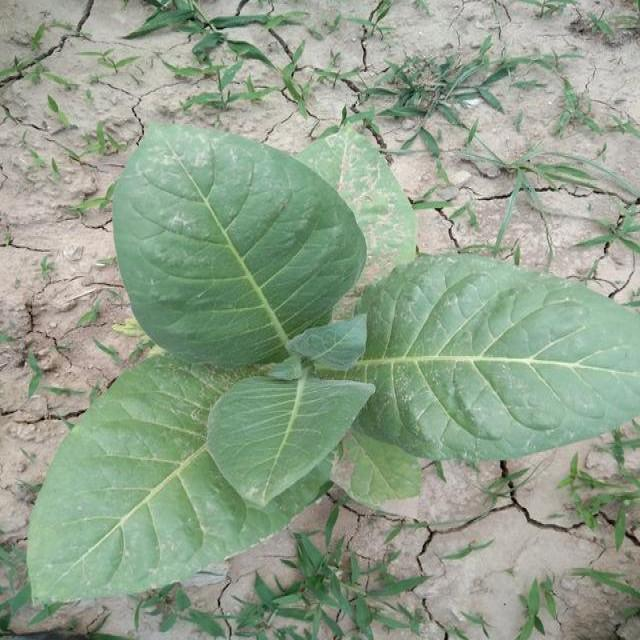crop: (25, 129, 640, 592)
